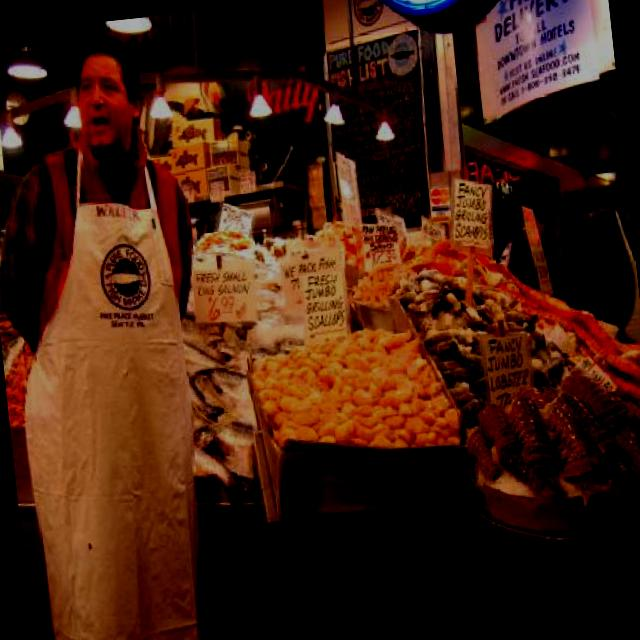Person: (0, 30, 229, 640), (553, 164, 640, 350)
